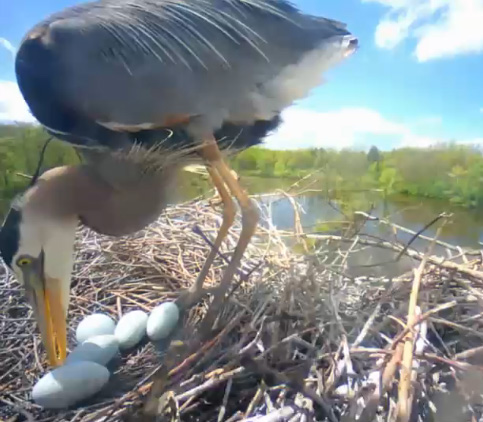heron: (1, 1, 347, 366)
